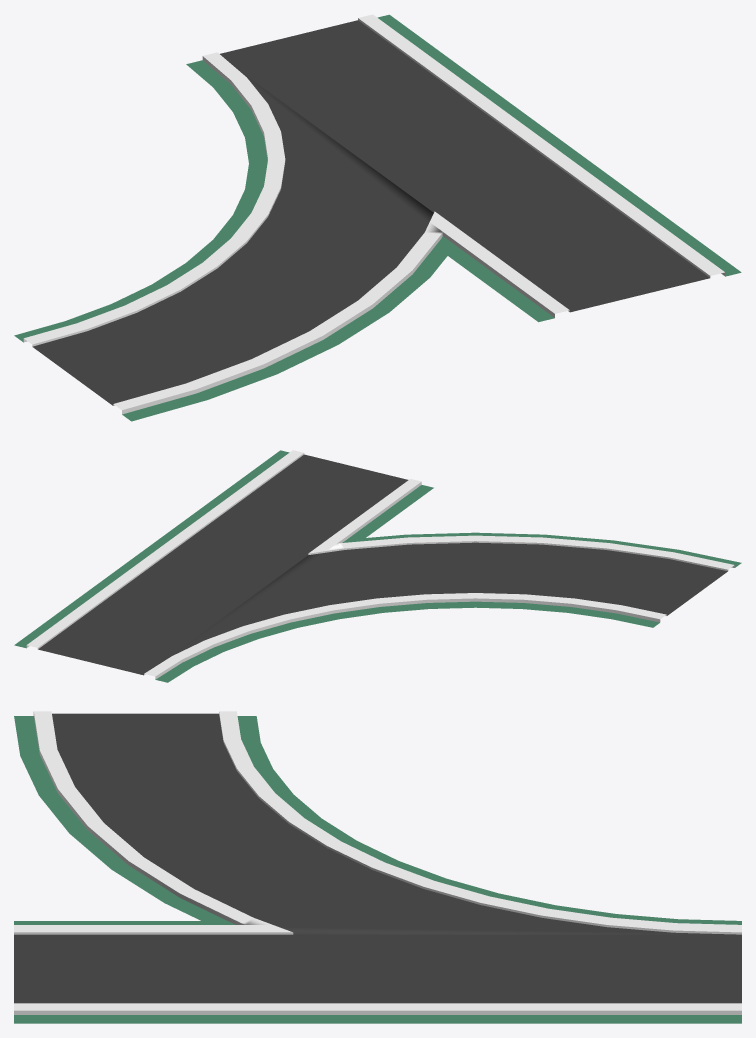
Rendered from roadSplitLarger.obj.
3 renders of one model, top to bottom at view 1: azimuth 30°, elevation 25°; view 2: azimuth 150°, elevation 25°; view 3: azimuth 270°, elevation 25°, orthographic. The views are drawn at different scales.
Parts seen in each view (by area): view 1: roadSplitLarger; view 2: roadSplitLarger; view 3: roadSplitLarger.
Part boxes in pixels (box(x1,y1,x2,y2)): roadSplitLarger: box(14, 14, 741, 421); roadSplitLarger: box(14, 450, 741, 682); roadSplitLarger: box(14, 711, 741, 1023).
Bounding box in the file's own units: 3 × 0.02 × 3.
